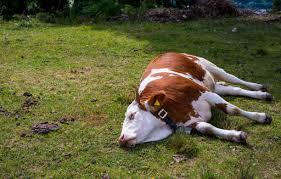cow: (119, 52, 274, 149)
